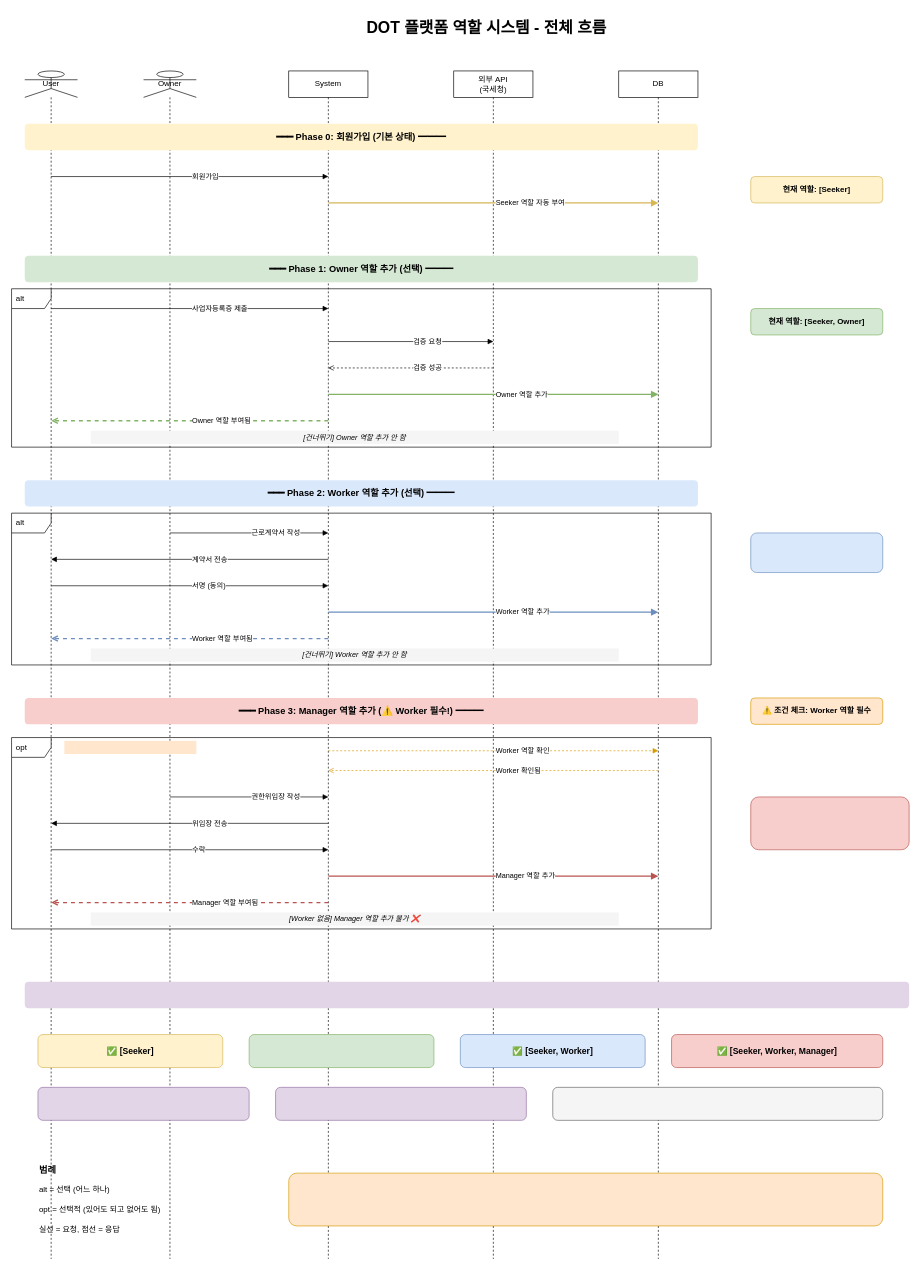
This 921x1271 diagram has some shape labels left out. Each missing label, with the box of its shape:
[Worker 역할 보유 시에만]: (64, 741, 196, 754)
━━━ 최종 가능한 역할 조합 ━━━: (24, 981, 909, 1008)
✅ [Seeker, Owner, Worker, Manager]: (275, 1087, 526, 1120)
✅ [Seeker, Owner, Worker]: (37, 1087, 249, 1120)
✅ [Seeker, Owner]: (248, 1034, 434, 1068)
❌ Manager만 (Worker 없이) - 불가능!: (552, 1087, 883, 1120)
현재 역할: [Seeker, Worker, Manager] 또는 [Seeker, Owner, Worker, Manager]: (750, 796, 909, 850)
현재 역할: [Seeker, Worker] 또는 [Seeker, Owner, Worker]: (750, 532, 883, 573)
🔑 핵심: Manager는 Worker 없이 불가능! Worker 역할이 반드시 선행되어야 함: (288, 1172, 883, 1226)
